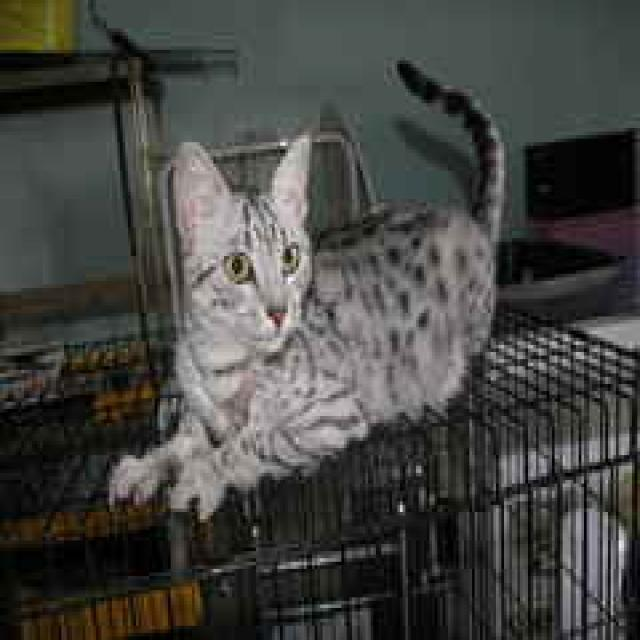Egyptian_Mau: (171, 128, 307, 352)
